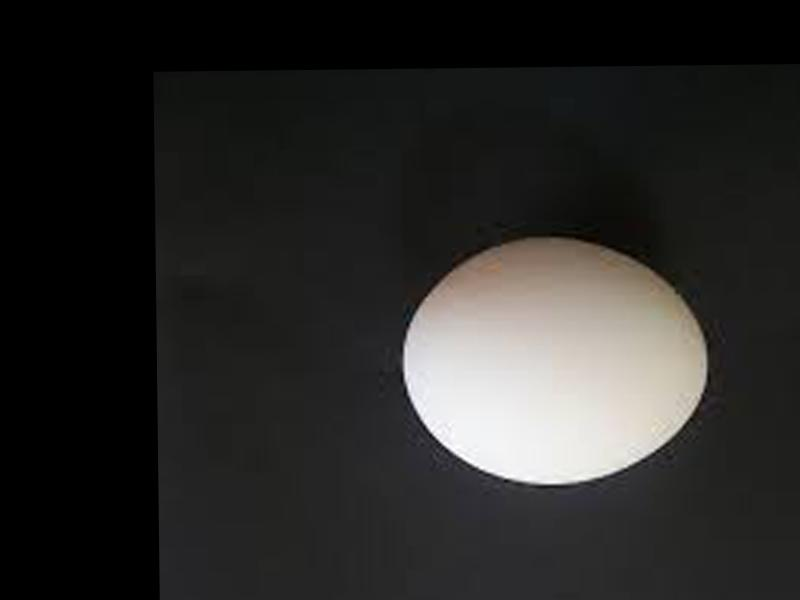Eggs: (409, 237, 711, 485)
